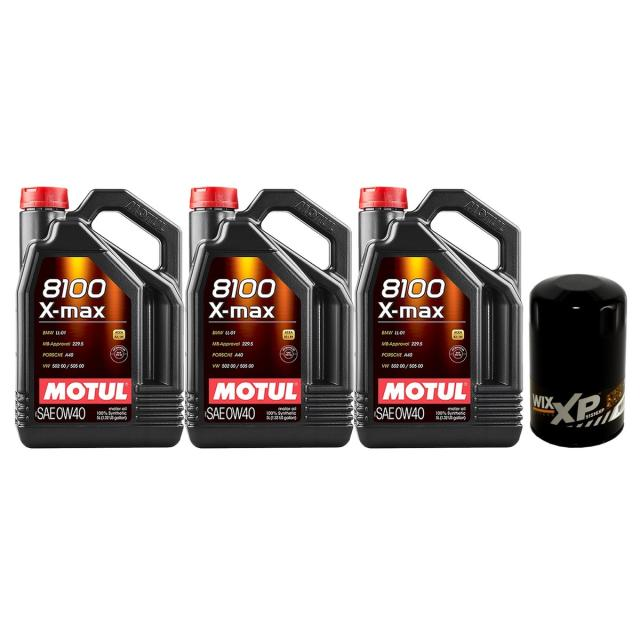motor_oil: (357, 175, 529, 455), (12, 186, 188, 452), (188, 175, 356, 449)
oil_filter: (532, 268, 630, 450)
